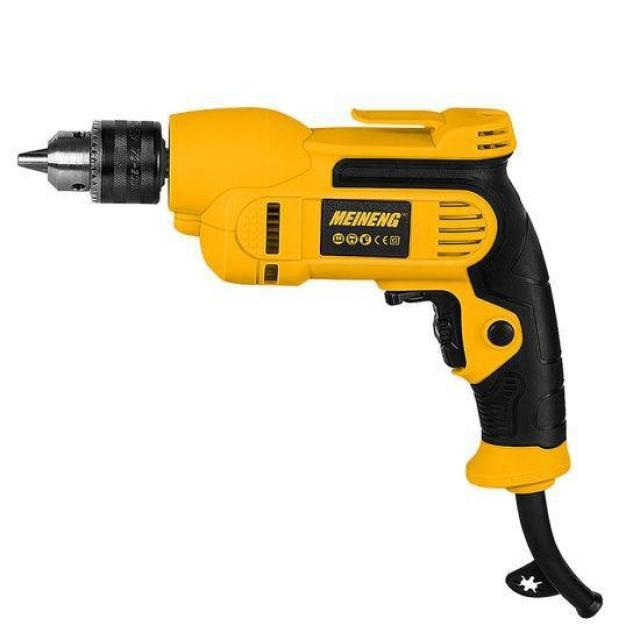drill: (16, 105, 604, 620)
